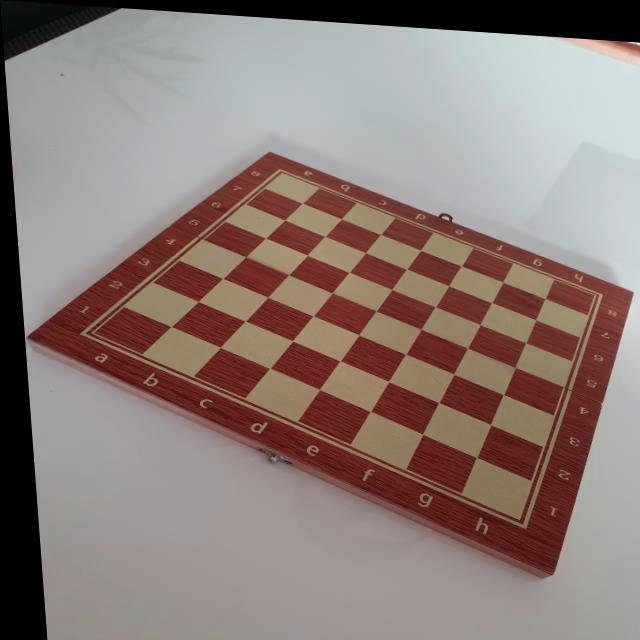chess-table-corners: (64, 320, 98, 343), (496, 504, 526, 526), (582, 277, 611, 295), (266, 160, 293, 178)
